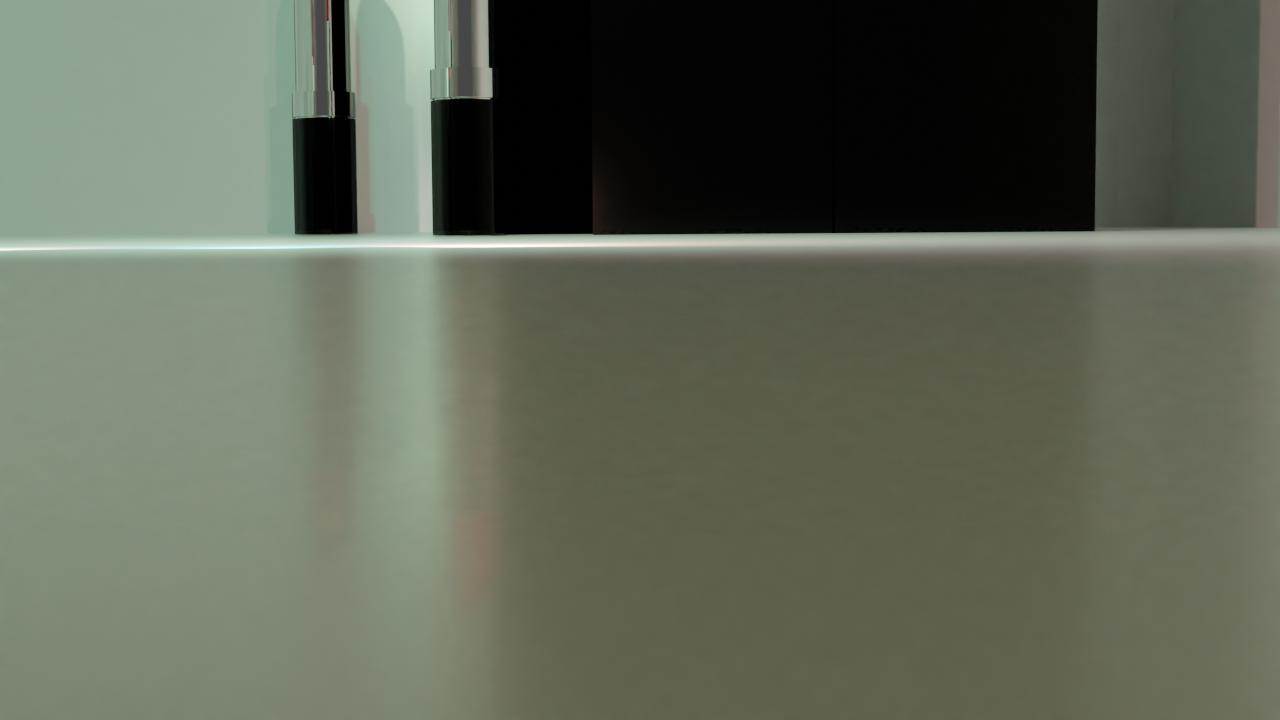CLASSIFIER_NAME: (429, 0, 507, 236), (290, 0, 359, 235)
